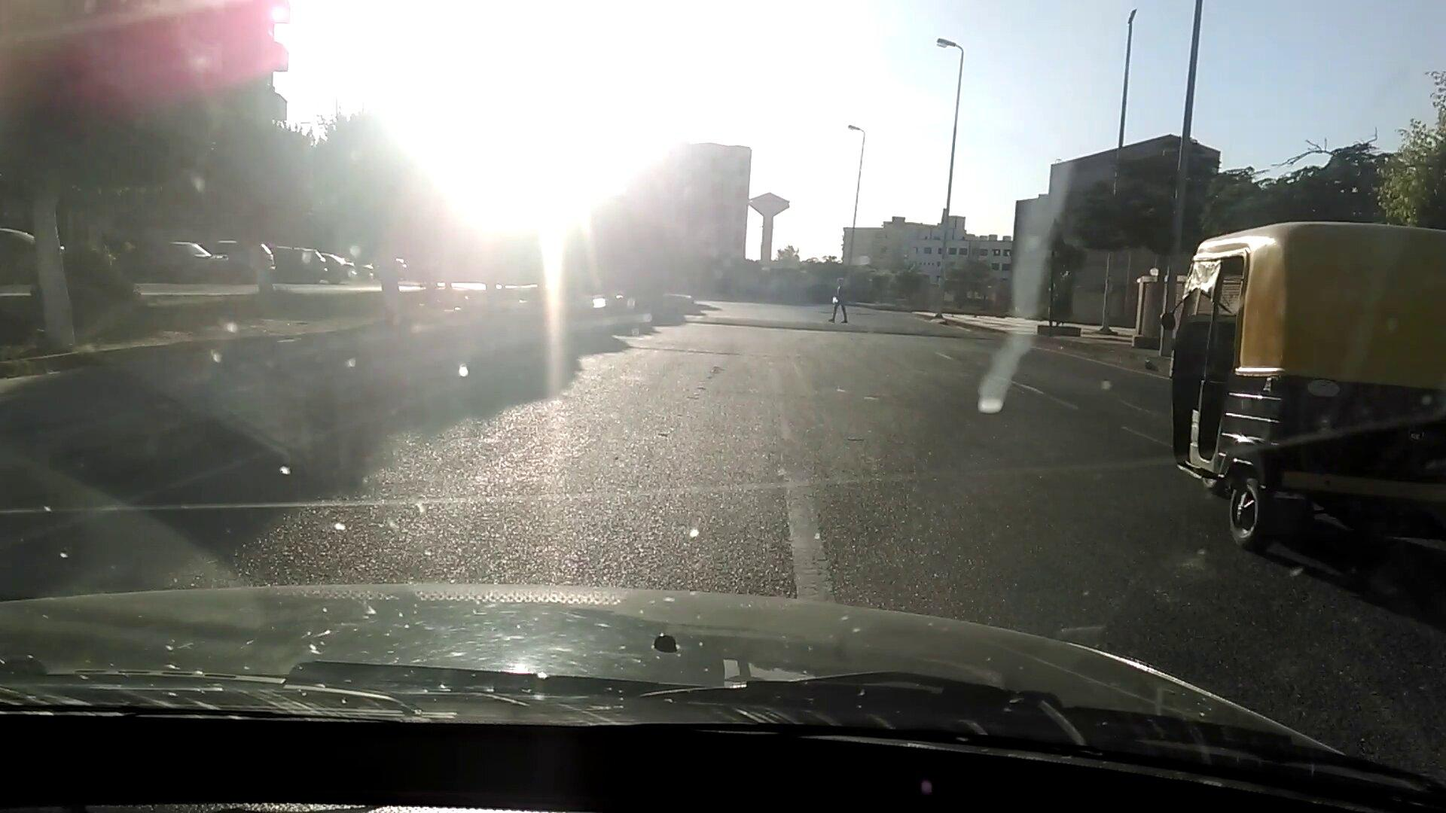Bump: (681, 308, 1016, 341)
